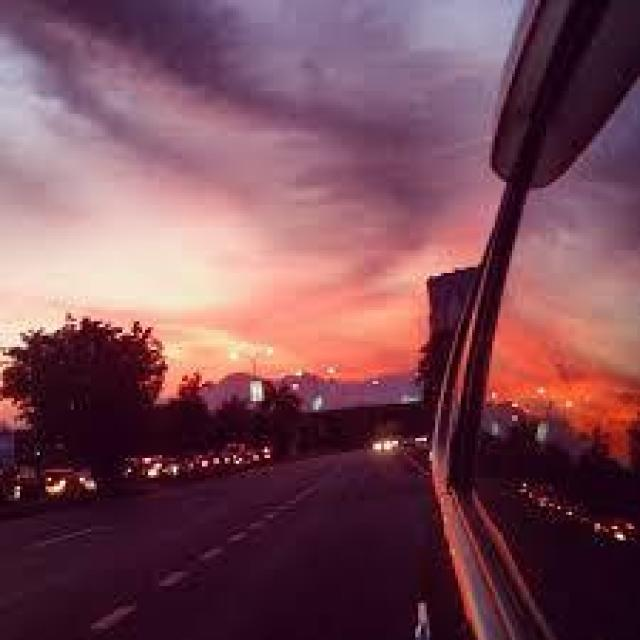other: (480, 314, 630, 454), (240, 286, 423, 388), (3, 433, 269, 490), (150, 295, 243, 377), (359, 422, 406, 468)
